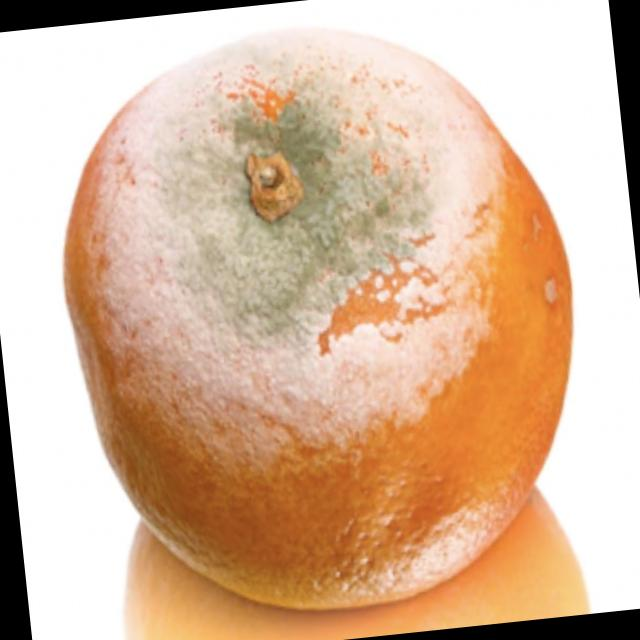rotten-orange: (37, 3, 602, 633)
